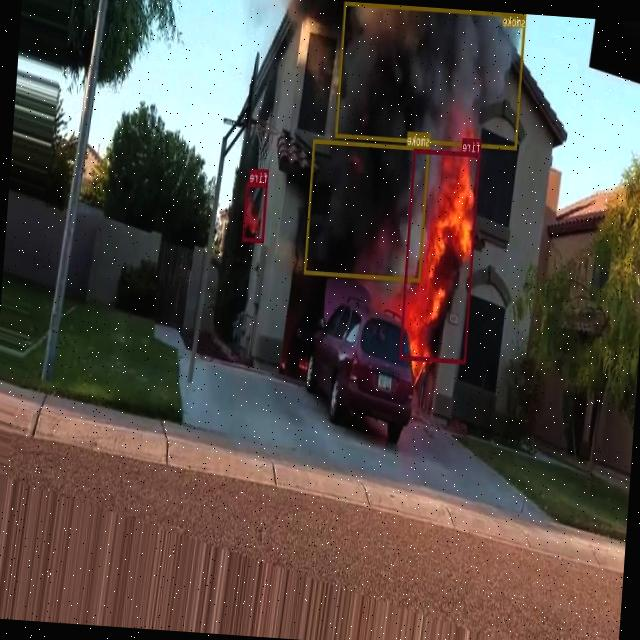fire: (400, 148, 480, 362), (242, 182, 268, 242)
smoke: (336, 1, 526, 149), (304, 138, 430, 281)
